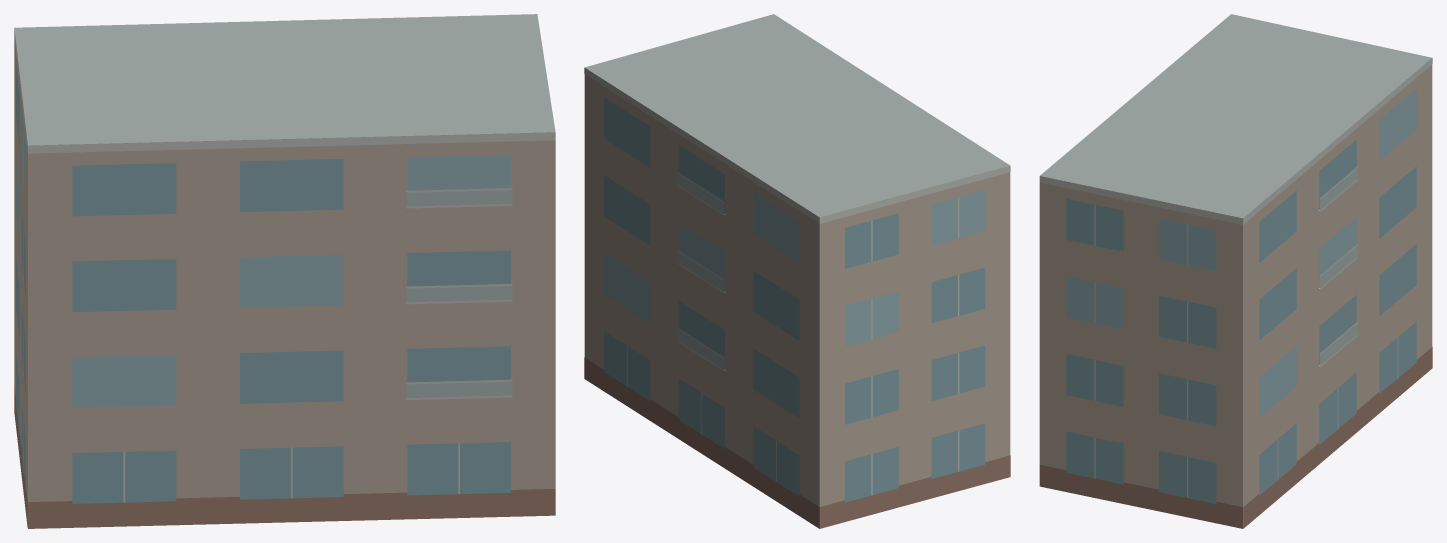
File: survey-upis-32977984.glb
The picture shows the model from 3 angles, left to right: view 1: azimuth 30°, elevation 25°; view 2: azimuth 150°, elevation 25°; view 3: azimuth 270°, elevation 25°; orthographic projection. The views are drawn at different scales.
Visible parts, largest first — view 1: survey-upis-32977984.tmp; view 2: survey-upis-32977984.tmp; view 3: survey-upis-32977984.tmp.
Part boxes in pixels (x1=…): survey-upis-32977984.tmp: x1=14, y1=14, x2=555, y2=528; survey-upis-32977984.tmp: x1=584, y1=14, x2=1010, y2=528; survey-upis-32977984.tmp: x1=1039, y1=14, x2=1432, y2=528.
Bounding box in the file's own units: 16.38 × 11.6 × 13.31.
